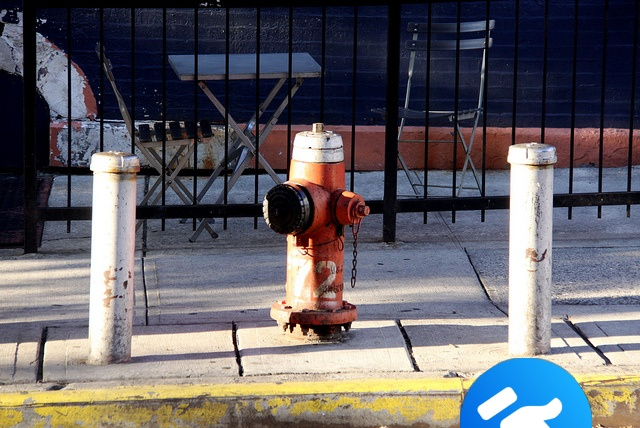like: (460, 358, 592, 428)
